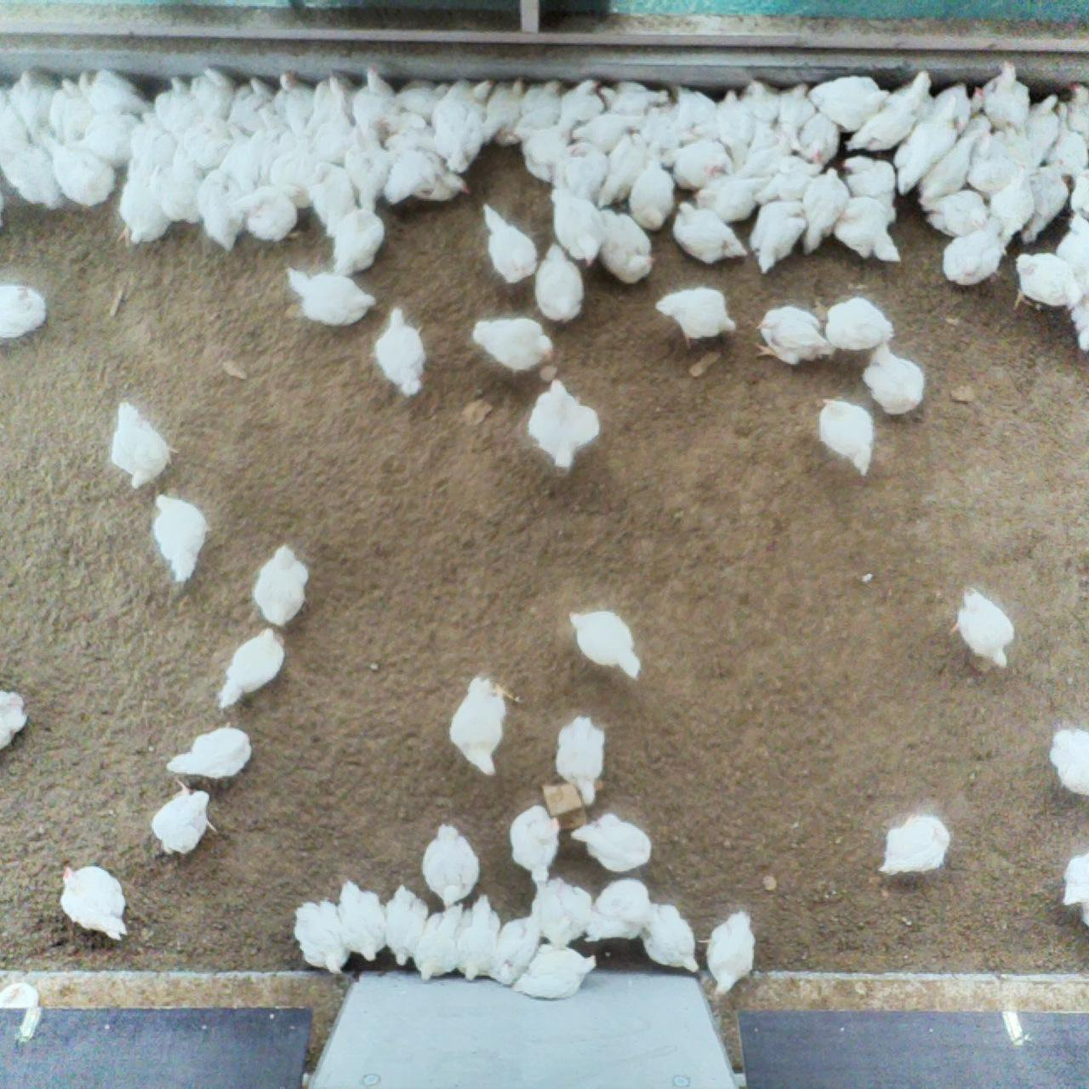chicken: (527, 376, 603, 473), (213, 624, 291, 710), (108, 397, 180, 490), (279, 261, 379, 327), (889, 108, 960, 199), (449, 671, 509, 778), (912, 118, 984, 206), (148, 495, 213, 586), (420, 822, 485, 911), (39, 135, 116, 210), (952, 583, 1016, 673), (808, 396, 877, 479), (511, 940, 602, 1002), (750, 302, 834, 369), (567, 607, 641, 683), (587, 205, 657, 285), (1008, 247, 1089, 316), (652, 285, 742, 347), (828, 188, 901, 264), (542, 179, 604, 268), (806, 69, 895, 130), (372, 303, 428, 399), (250, 542, 313, 627), (58, 864, 130, 938), (478, 200, 539, 287), (572, 812, 653, 876), (166, 721, 254, 779), (749, 193, 810, 276), (481, 912, 547, 988), (469, 316, 555, 374), (305, 157, 365, 239), (857, 348, 929, 416), (231, 178, 305, 244), (881, 811, 955, 877), (637, 901, 703, 975), (625, 148, 681, 235), (707, 909, 761, 999), (341, 119, 390, 218), (114, 166, 173, 248), (671, 200, 749, 262), (526, 875, 593, 947), (193, 163, 247, 252), (509, 802, 563, 891), (938, 221, 1005, 292), (584, 873, 650, 945), (0, 141, 66, 211), (593, 130, 650, 211), (153, 145, 207, 230), (818, 297, 897, 355), (293, 899, 351, 978), (841, 102, 927, 155), (151, 781, 214, 853), (410, 901, 466, 982), (557, 720, 609, 807), (795, 162, 845, 252), (75, 65, 150, 124), (532, 239, 584, 324), (456, 891, 503, 983), (922, 186, 994, 245), (431, 94, 484, 174), (336, 881, 388, 962), (550, 133, 606, 207), (353, 63, 400, 149), (981, 58, 1035, 132), (382, 883, 431, 964), (7, 65, 57, 144), (710, 87, 757, 171), (1019, 168, 1068, 248), (331, 207, 386, 278), (758, 150, 825, 208), (1038, 102, 1089, 178), (693, 169, 763, 224), (270, 145, 331, 208), (309, 69, 362, 141), (733, 117, 794, 179), (666, 138, 730, 196), (216, 129, 270, 197), (431, 74, 493, 133), (963, 131, 1011, 207), (126, 110, 180, 176), (881, 67, 939, 128), (510, 74, 565, 137), (550, 77, 606, 138), (391, 70, 452, 126), (777, 78, 821, 154), (512, 120, 563, 185), (45, 74, 93, 143), (484, 73, 527, 150), (385, 149, 442, 207), (568, 109, 638, 156), (794, 102, 842, 170), (178, 115, 234, 173), (989, 175, 1036, 244), (1022, 88, 1062, 169), (990, 120, 1035, 191), (838, 157, 896, 212), (223, 74, 277, 133), (73, 111, 134, 163), (270, 67, 317, 134), (1045, 724, 1089, 795), (398, 162, 476, 202), (924, 82, 991, 128), (597, 76, 669, 118), (250, 126, 297, 189), (186, 63, 235, 121), (671, 85, 721, 141), (0, 282, 49, 339), (1048, 207, 1089, 275), (153, 74, 198, 135), (309, 120, 363, 169), (737, 78, 785, 128), (1059, 76, 1089, 149), (1062, 849, 1089, 930), (376, 118, 438, 153), (0, 686, 30, 751), (0, 90, 32, 149), (637, 102, 677, 147), (1064, 280, 1089, 349), (1061, 162, 1089, 212)
